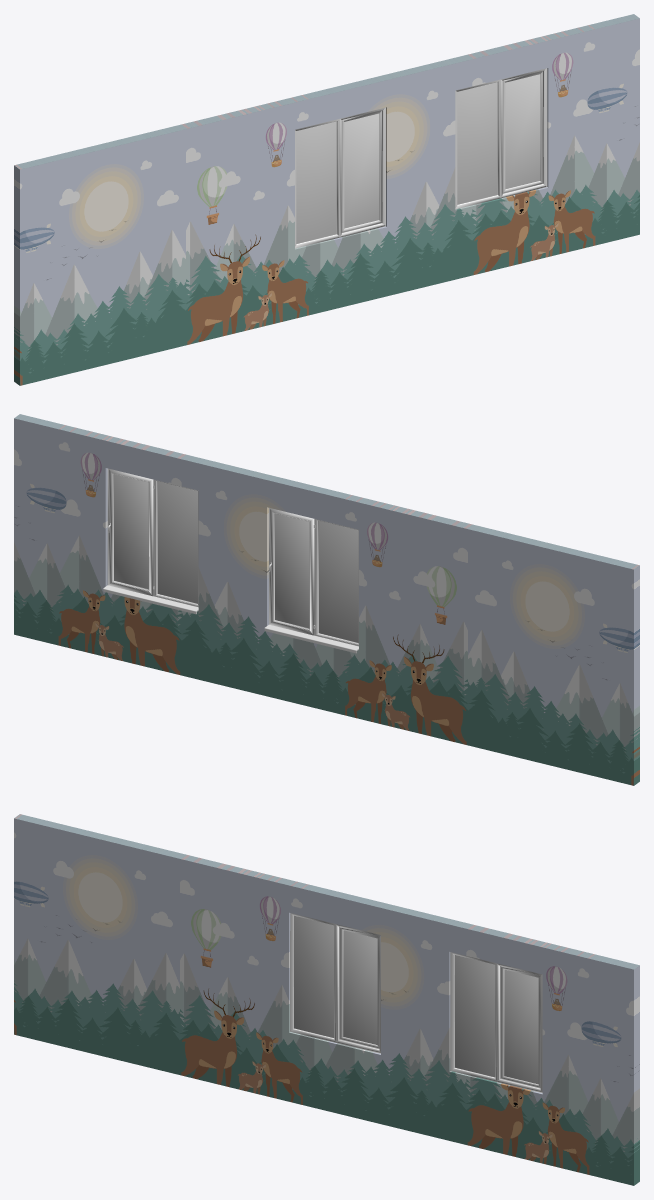
File: WallWithWindow_V3.fbx
3 renders of one model, top to bottom at view 1: azimuth 30°, elevation 25°; view 2: azimuth 150°, elevation 25°; view 3: azimuth 330°, elevation 25°, orthographic.
Parts seen in each view (by area): view 1: Cube.002; view 2: Cube.002; view 3: Cube.002.
Part boxes in pixels (box(x1,y1,x2,y2)): Cube.002: box(14, 14, 639, 385); Cube.002: box(14, 414, 639, 785); Cube.002: box(14, 814, 639, 1185).
Bounding box in the file's own units: 900 × 300 × 21.09.
7 materials, 1 textured.
